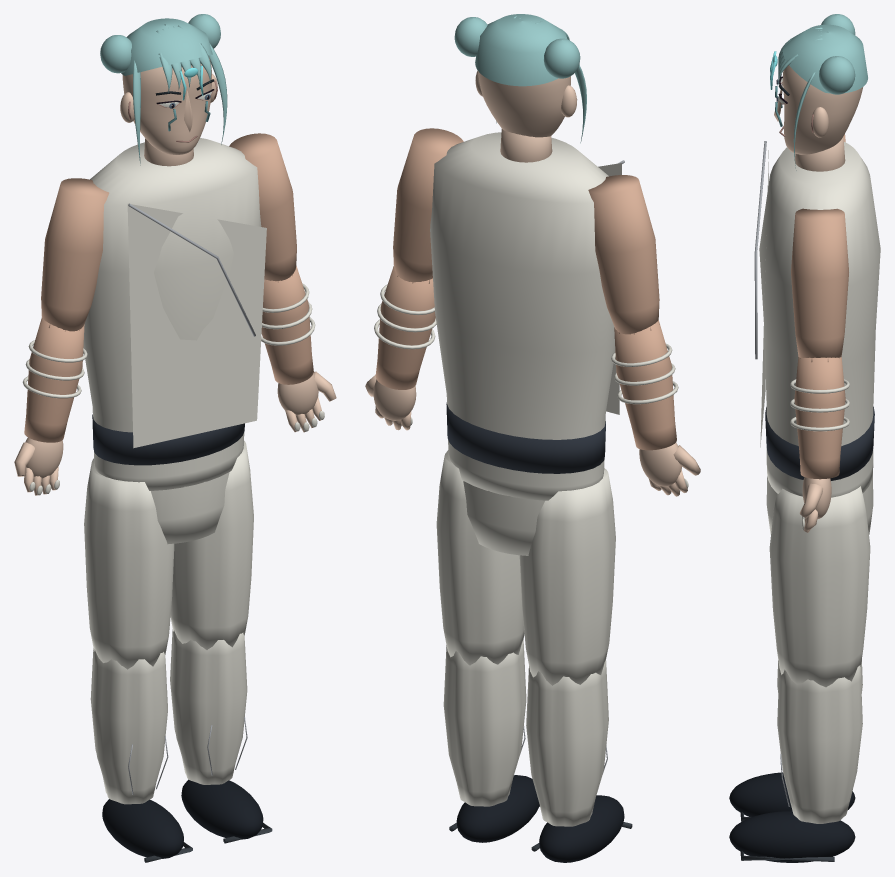
Rendered from kashimo.glb.
3 views of the same model, side by side, from view 1: azimuth 30°, elevation 25°; view 2: azimuth 150°, elevation 25°; view 3: azimuth 270°, elevation 25° (orthographic). The views are drawn at different scales.
Parts seen in each view (by area): view 1: overlapping sleeveless robe.001, draped trouser upper leg.018, draped trouser upper leg.019, draped trouser lower leg.018, draped trouser lower leg.019, deltoid and upper arm.001, kashimo separated fringe.005, ear.012, forearm anatomy.012, deltoid and upper arm.002, forearm anatomy.013, dark waist sash.001 (+9 smaller); view 2: overlapping sleeveless robe.001, draped trouser upper leg.018, draped trouser upper leg.019, draped trouser lower leg.019, draped trouser lower leg.018, deltoid and upper arm.001, kashimo separated fringe.005, deltoid and upper arm.002, dark waist sash.001, forearm anatomy.012, forearm anatomy.013, ear.012 (+8 smaller); view 3: overlapping sleeveless robe.001, draped trouser upper leg.019, draped trouser lower leg.019, deltoid and upper arm.002, kashimo separated fringe.005, forearm anatomy.013, foot.031, ear.012, dark waist sash.001, foot.030, finger.128, neck.014 (+4 smaller).
Part boxes in pixels (left/top/right/bottom): overlapping sleeveless robe.001: left=83, top=138, right=266, bottom=490; draped trouser upper leg.018: left=84, top=458, right=174, bottom=669; draped trouser upper leg.019: left=170, top=440, right=253, bottom=649; draped trouser lower leg.018: left=90, top=648, right=167, bottom=804; draped trouser lower leg.019: left=170, top=629, right=247, bottom=784; deltoid and upper arm.001: left=41, top=178, right=109, bottom=331; kashimo separated fringe.005: left=100, top=14, right=227, bottom=165; ear.012: left=120, top=57, right=217, bottom=154; forearm anatomy.012: left=24, top=317, right=84, bottom=442; deltoid and upper arm.002: left=229, top=133, right=296, bottom=281; forearm anatomy.013: left=261, top=266, right=313, bottom=384; dark waist sash.001: left=92, top=414, right=244, bottom=465; overlapping sleeveless robe.001: left=430, top=132, right=621, bottom=500; draped trouser upper leg.018: left=519, top=468, right=615, bottom=685; draped trouser upper leg.019: left=436, top=450, right=524, bottom=665; draped trouser lower leg.019: left=443, top=639, right=526, bottom=806; draped trouser lower leg.018: left=526, top=660, right=608, bottom=826; deltoid and upper arm.001: left=588, top=175, right=659, bottom=334; kashimo separated fringe.005: left=454, top=14, right=586, bottom=143; deltoid and upper arm.002: left=393, top=128, right=463, bottom=282; dark waist sash.001: left=446, top=402, right=605, bottom=473; forearm anatomy.012: left=614, top=320, right=676, bottom=450; forearm anatomy.013: left=375, top=266, right=435, bottom=389; ear.012: left=475, top=71, right=576, bottom=137; overlapping sleeveless robe.001: left=759, top=142, right=880, bottom=497; draped trouser upper leg.019: left=769, top=486, right=870, bottom=687; draped trouser lower leg.019: left=777, top=665, right=862, bottom=823; deltoid and upper arm.002: left=791, top=208, right=848, bottom=357; kashimo separated fringe.005: left=778, top=14, right=867, bottom=170; forearm anatomy.013: left=794, top=357, right=845, bottom=479; foot.031: left=729, top=811, right=855, bottom=862; ear.012: left=774, top=65, right=862, bottom=154; dark waist sash.001: left=765, top=406, right=874, bottom=480; foot.030: left=729, top=772, right=855, bottom=817; finger.128: left=799, top=477, right=831, bottom=532; neck.014: left=795, top=136, right=845, bottom=171.
Size of the model in its own units: 0.7635 by 1.84 by 0.312.
